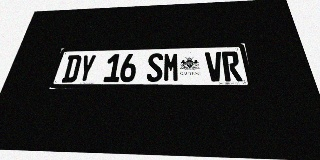1: (103, 54, 122, 82)
6: (119, 54, 137, 82)
D: (61, 55, 82, 82)
M: (163, 53, 179, 82)
R: (221, 51, 243, 81)
S: (146, 53, 163, 82)
V: (205, 52, 224, 81)
Y: (76, 54, 97, 82)
